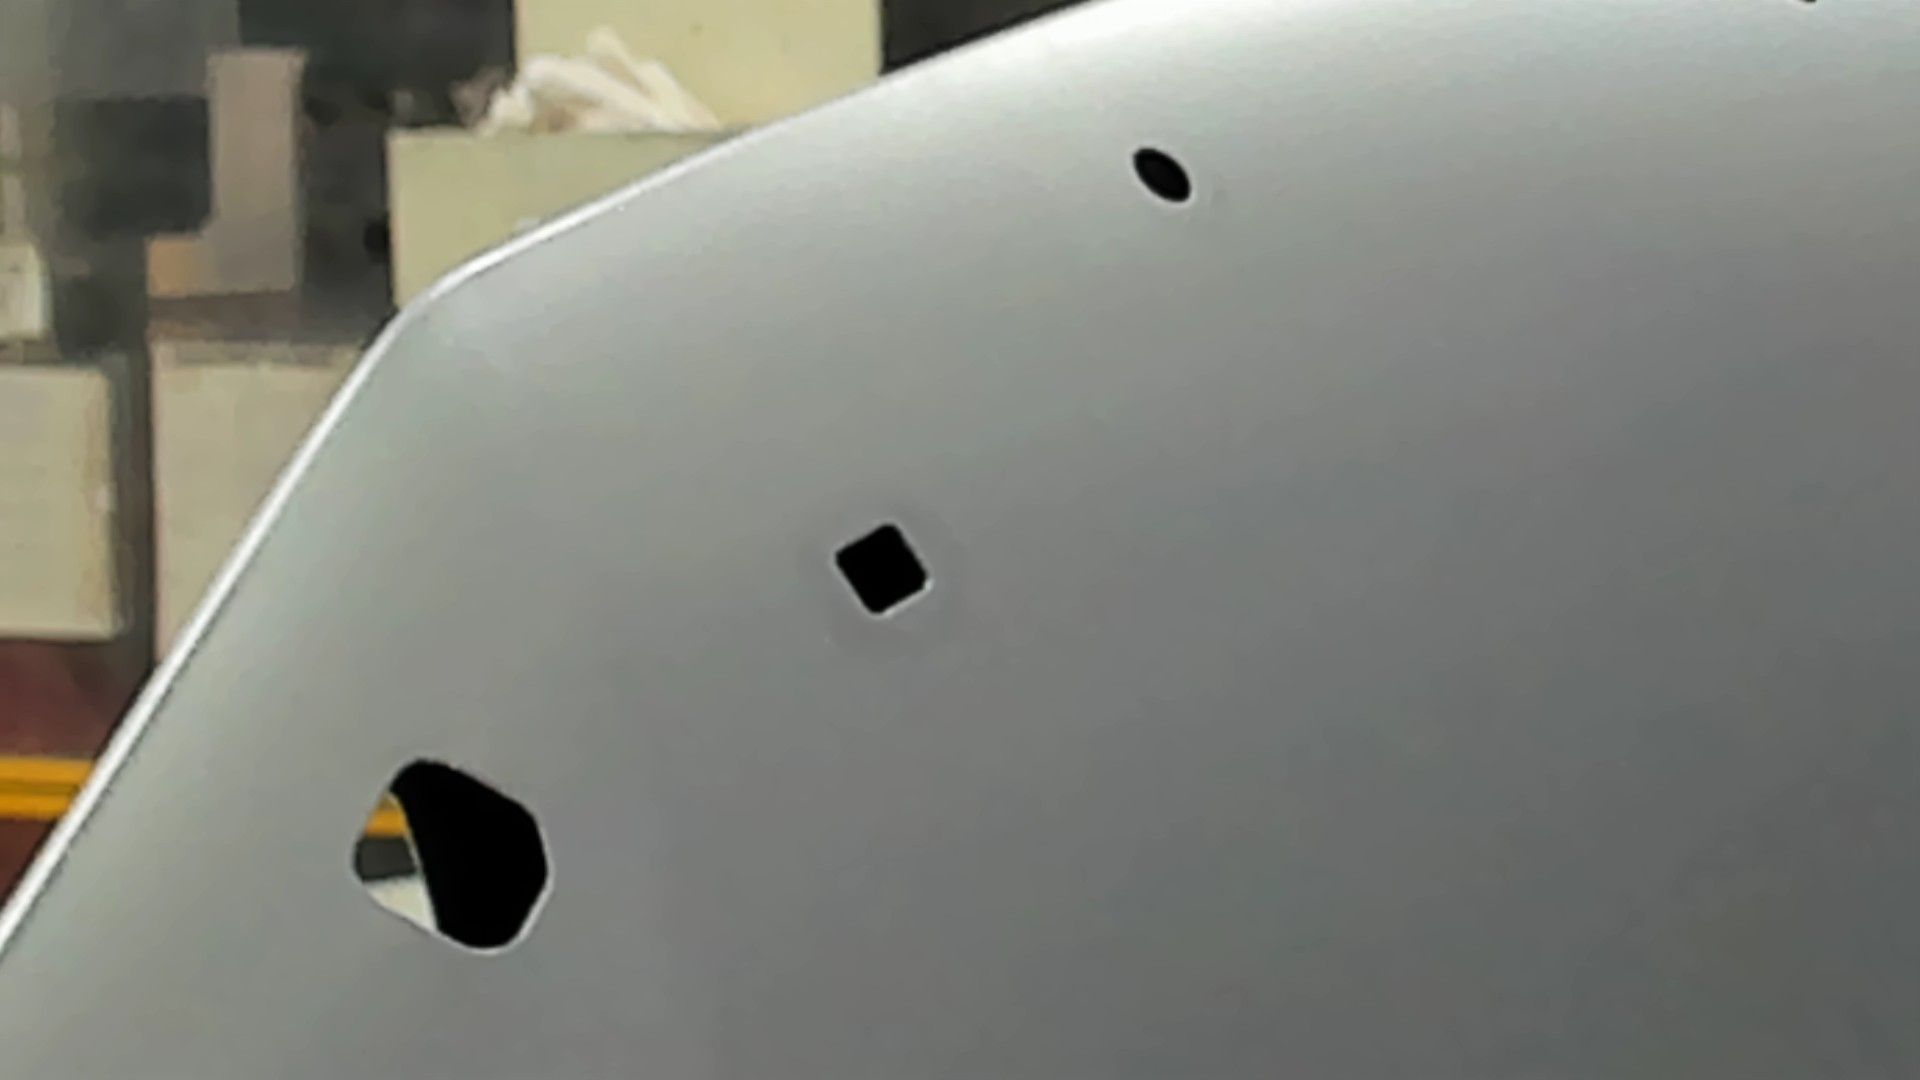chico: (1125, 140, 1197, 211)
grande: (345, 749, 556, 961)
mediano: (829, 516, 936, 622)
